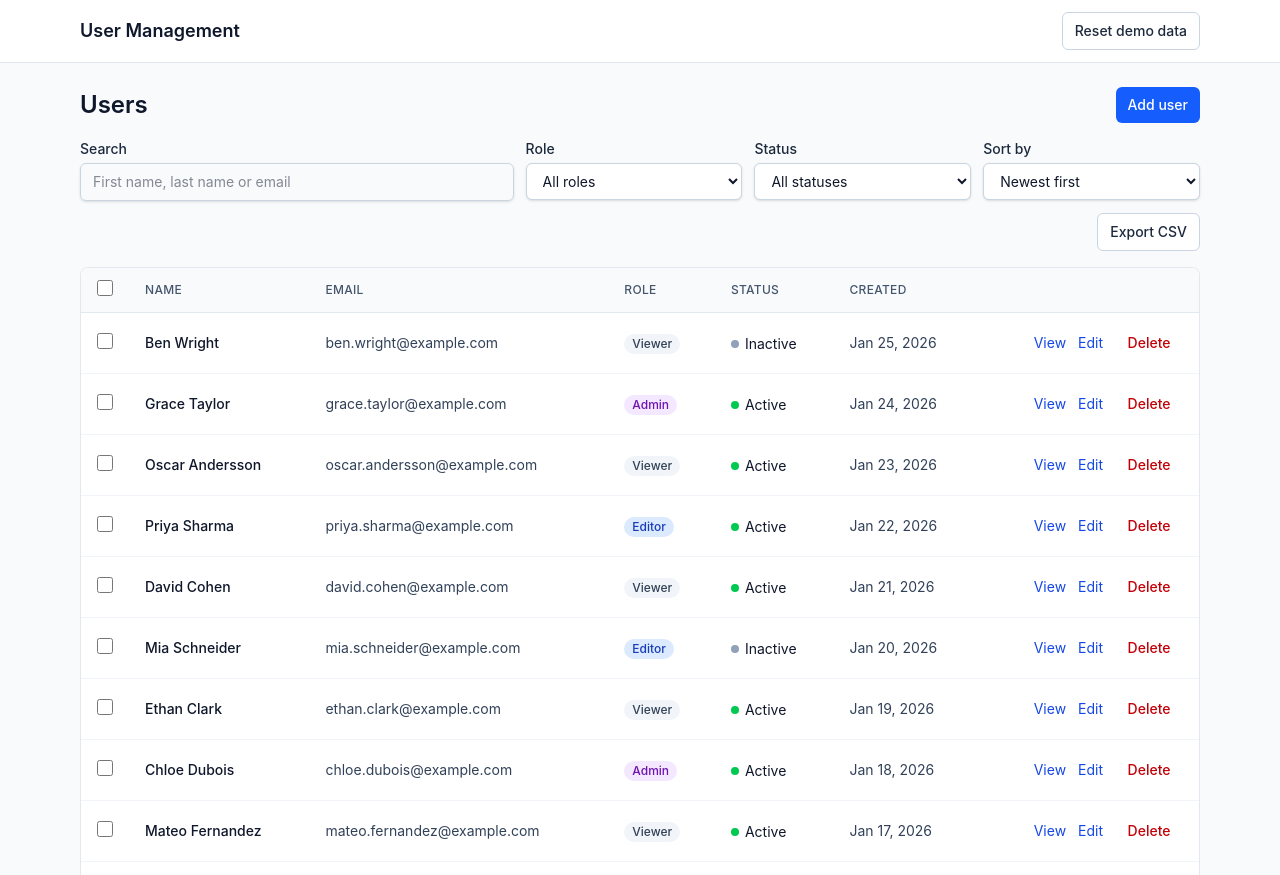
Scenario: CreateUserPage › is reached from the list via "Add user"
The image size is (1280, 875).
Click the link "Add user" at (1158, 105), box [1116,87,1200,123]
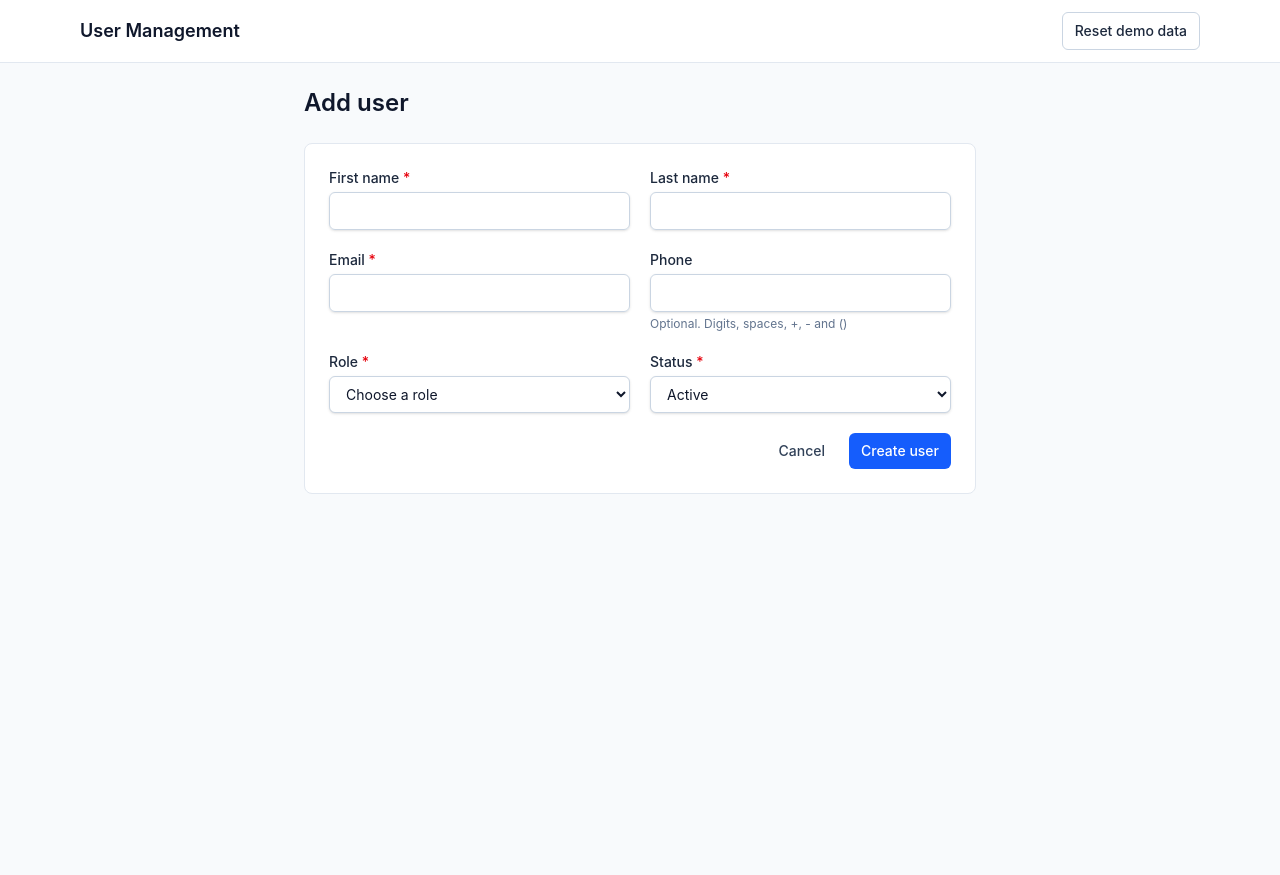
expect the heading "Add user" is shown: met, box [304,88,409,117]
